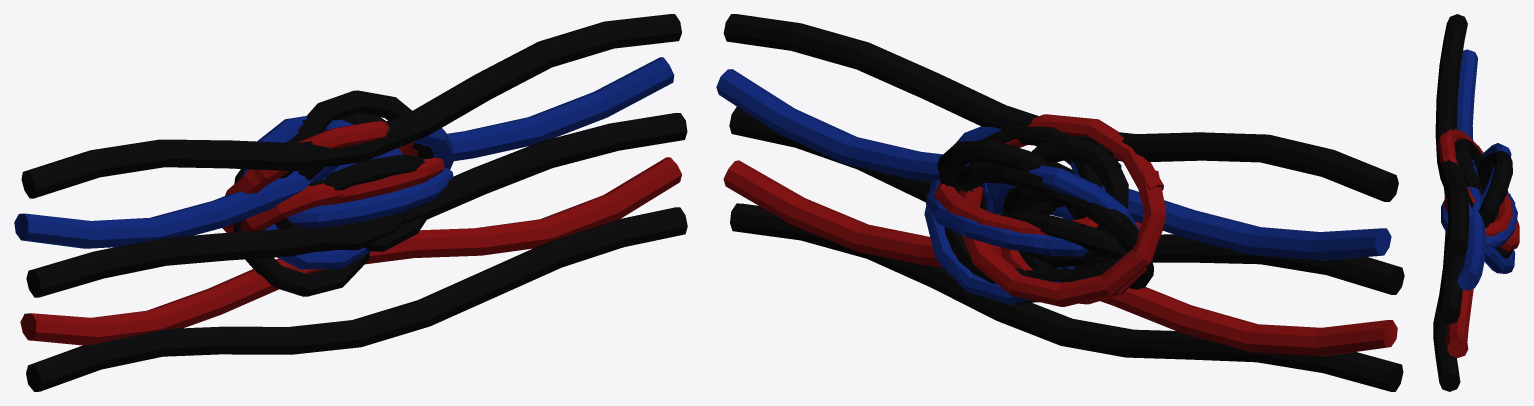
File: Favela_Run_Gamb_Knot.fbx
The picture shows the model from 3 angles, left to right: view 1: azimuth 30°, elevation 25°; view 2: azimuth 150°, elevation 25°; view 3: azimuth 270°, elevation 25°; orthographic projection. The views are drawn at different scales.
Visible parts, largest first — view 1: Favela_Run_Gamb_Knot; view 2: Favela_Run_Gamb_Knot; view 3: Favela_Run_Gamb_Knot.
Part boxes in pixels (bbox=[...]): Favela_Run_Gamb_Knot: bbox=[14, 14, 687, 391]; Favela_Run_Gamb_Knot: bbox=[716, 14, 1404, 391]; Favela_Run_Gamb_Knot: bbox=[1433, 14, 1519, 391].
Size of the model in its own units: 1 by 0.3809 by 0.1631.
